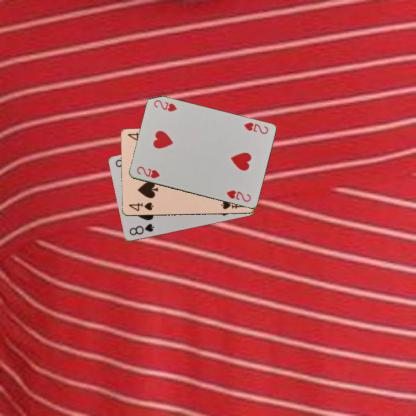2h: (134, 164, 161, 180), (241, 120, 269, 135)
4s: (126, 200, 154, 213)
8s: (126, 221, 155, 237)
